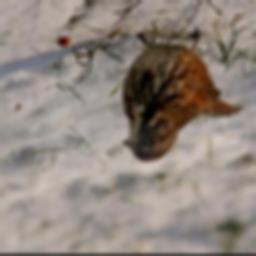Sparrow: (122, 27, 244, 165)
